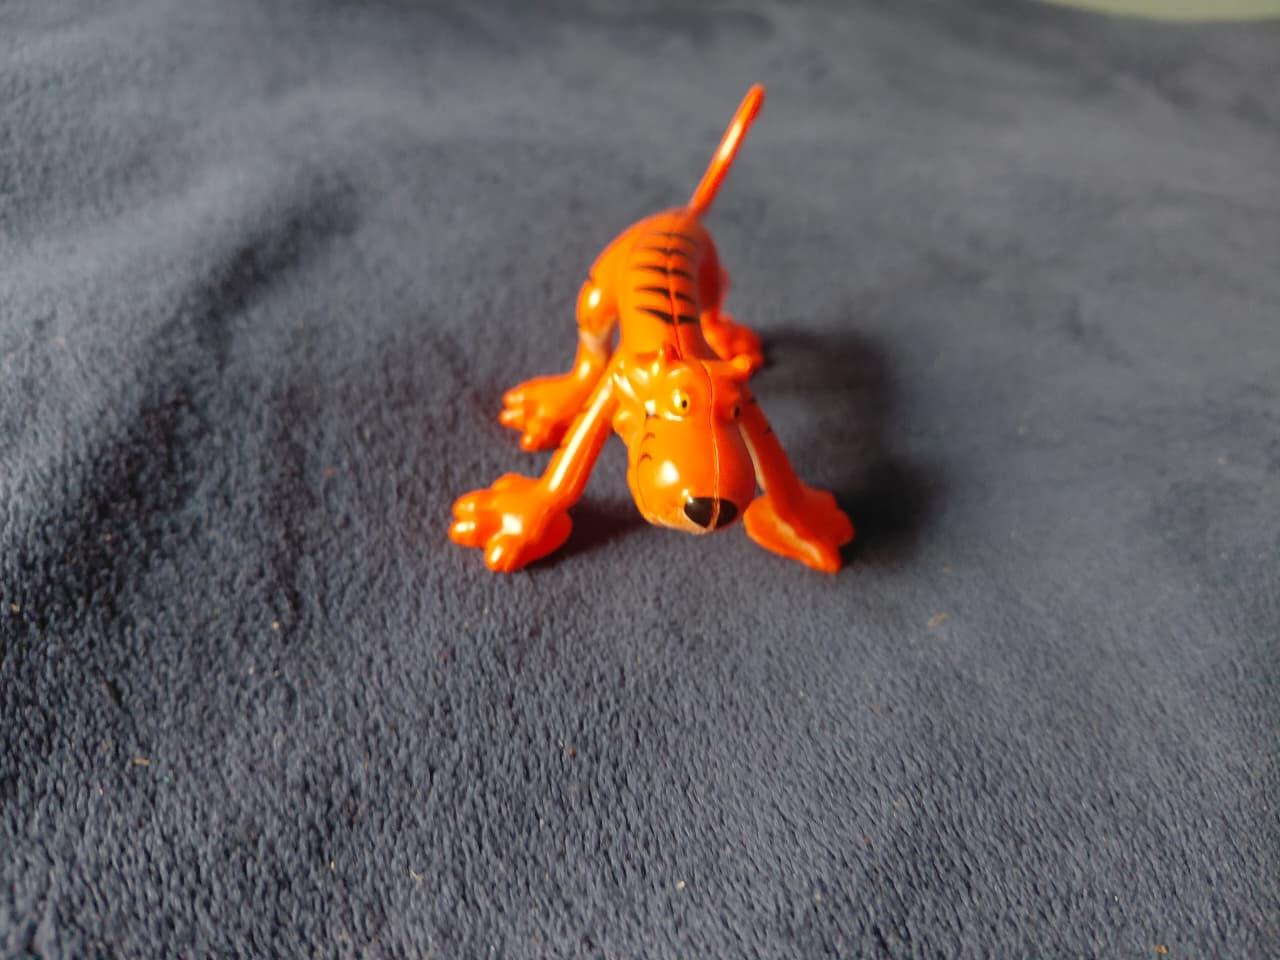tiger: (444, 73, 859, 598)
